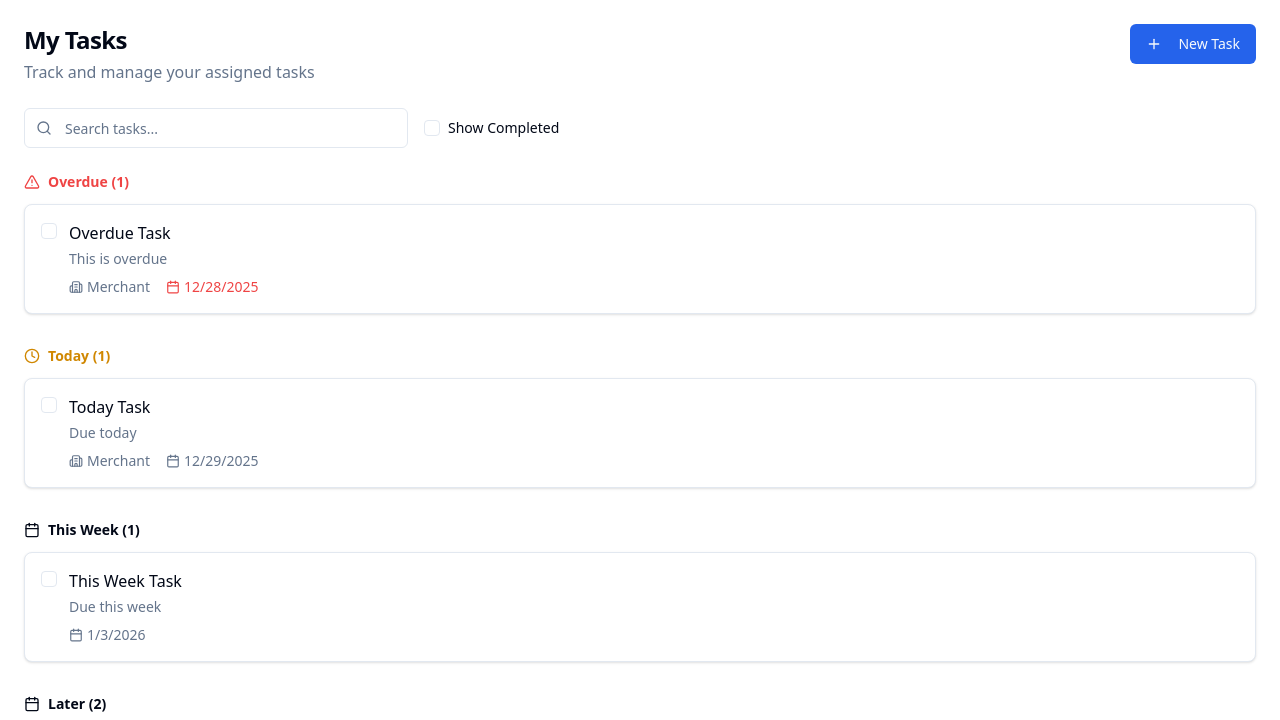
Test: TasksPage › should filter tasks by search
Type "Overdue" into the field with placeholder "Search tasks..." at (216,128), box [24, 108, 408, 148]
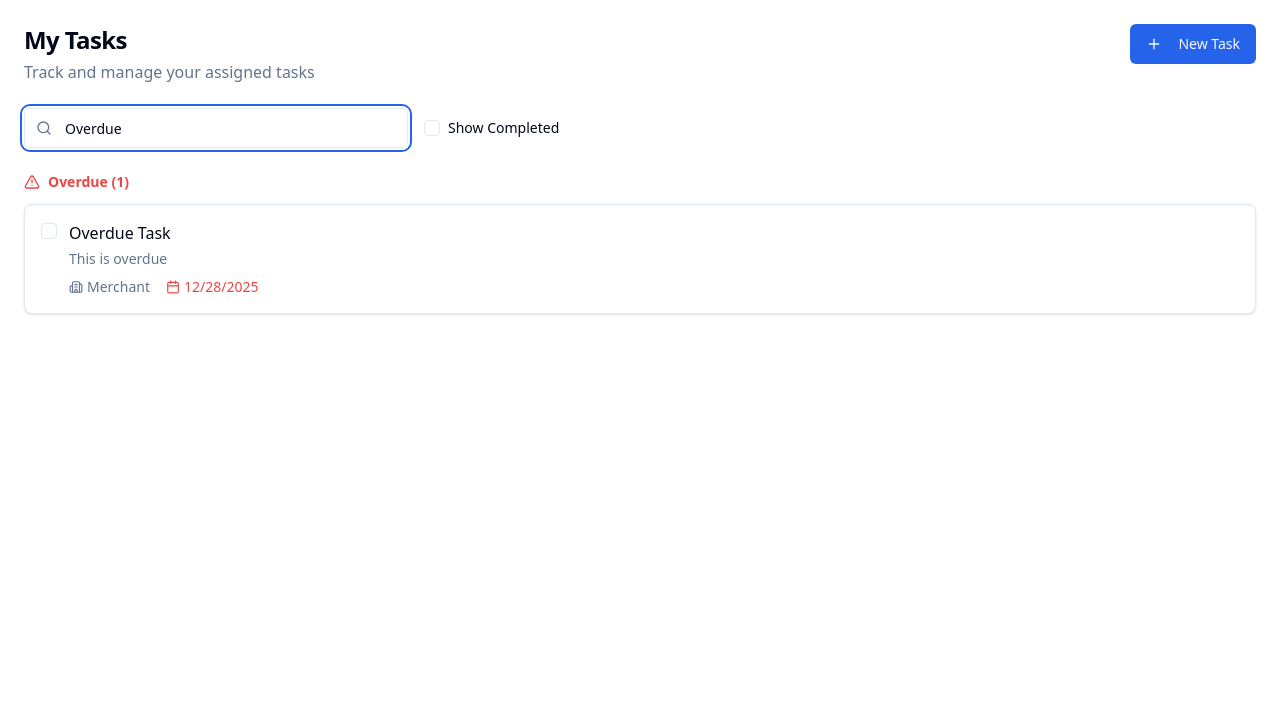
Check: the text "Overdue Task" is shown, box [69, 222, 171, 244]
Check: the text "Today Task" is gone
